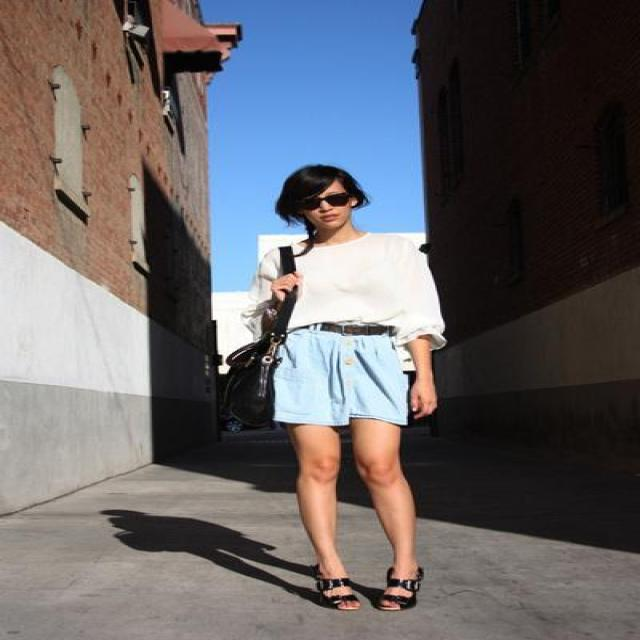bag: (227, 243, 312, 428)
shirt: (240, 223, 445, 349)
shoe: (306, 576, 420, 610)
shorts: (274, 328, 411, 424)
sunglass: (317, 192, 363, 208)
